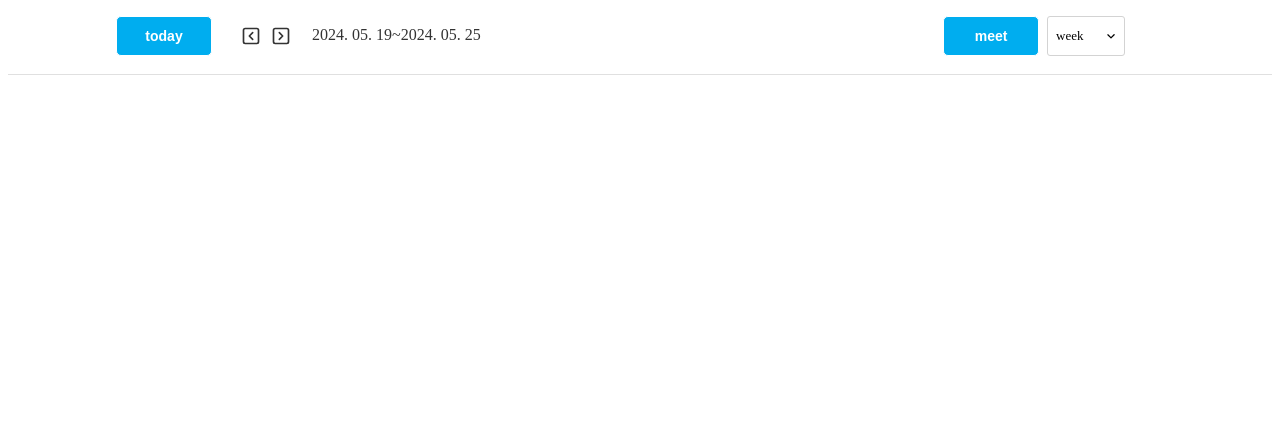
Test: calendar Header calendarNavButton test › render minicalendar week
Check: the element with test id "CalendarNavButton" is shown, box [241, 26, 481, 46]
Click the text with test id "CalendarNavButton-date". click: (396, 36)
box: [312, 26, 481, 46]
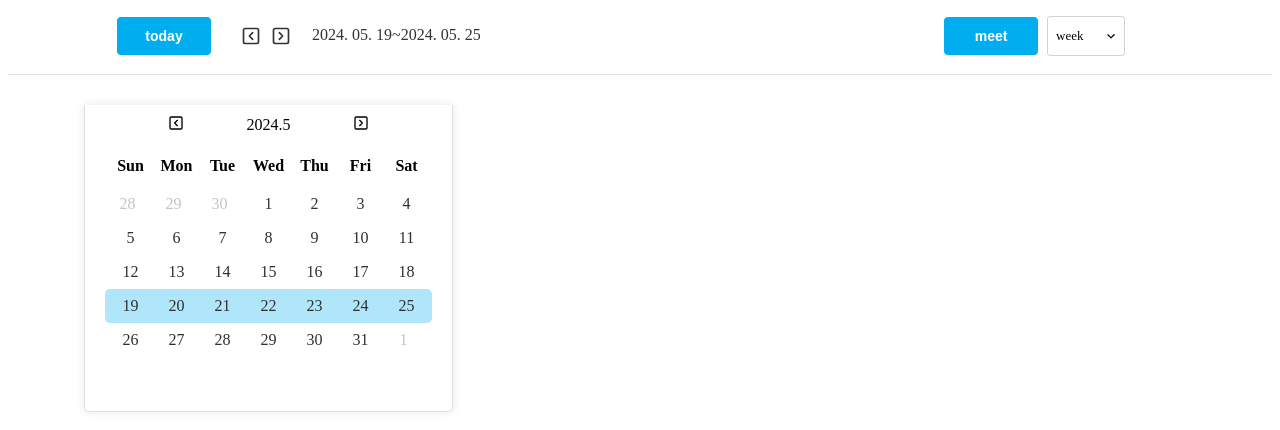
Check: the element with test id "miniCalendar" is shown, box [84, 105, 453, 412]
